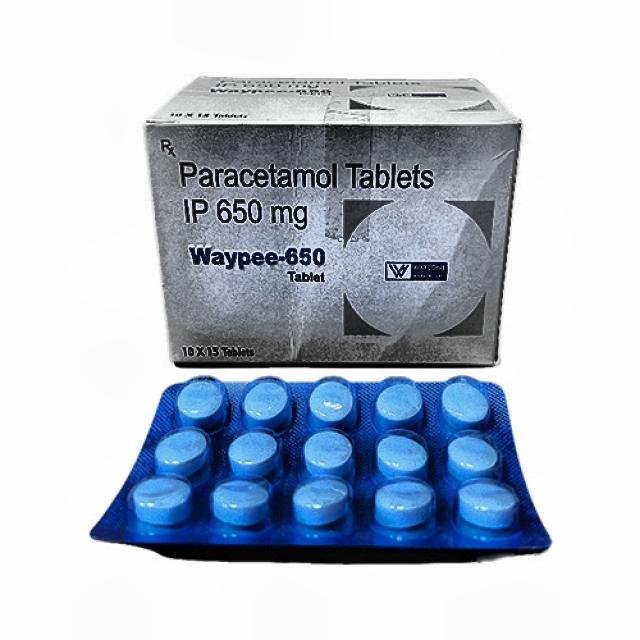Paracetamol: (156, 148, 457, 290)
